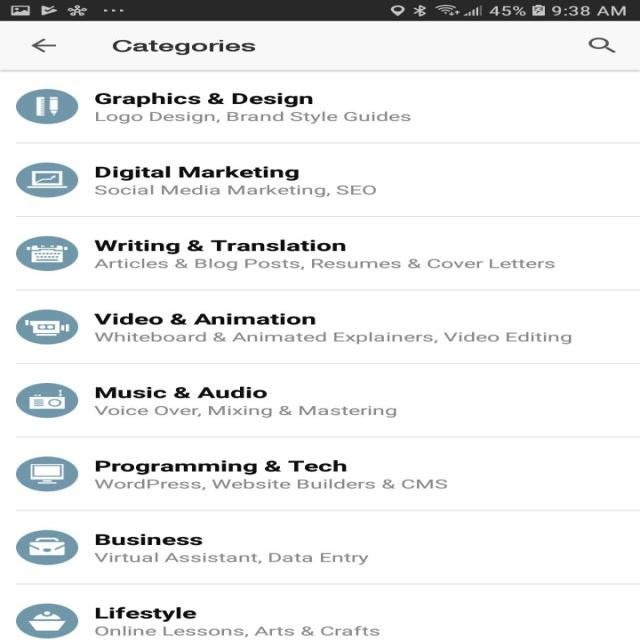Icon: (15, 529, 78, 564), (588, 38, 616, 53), (31, 38, 57, 53)
Image: (15, 603, 78, 639), (15, 456, 78, 492), (15, 382, 78, 418), (15, 309, 78, 344), (16, 236, 79, 271), (15, 162, 78, 197), (15, 89, 78, 124)
Text: (94, 331, 572, 344), (95, 258, 554, 270), (94, 478, 447, 491), (95, 111, 411, 124), (94, 239, 346, 255), (94, 405, 396, 418), (96, 460, 347, 475), (94, 185, 376, 198), (95, 92, 313, 108), (94, 625, 380, 637), (93, 552, 369, 564), (94, 165, 299, 181), (94, 313, 316, 325), (112, 40, 255, 56), (94, 386, 267, 399), (95, 606, 196, 622), (94, 533, 203, 545)
